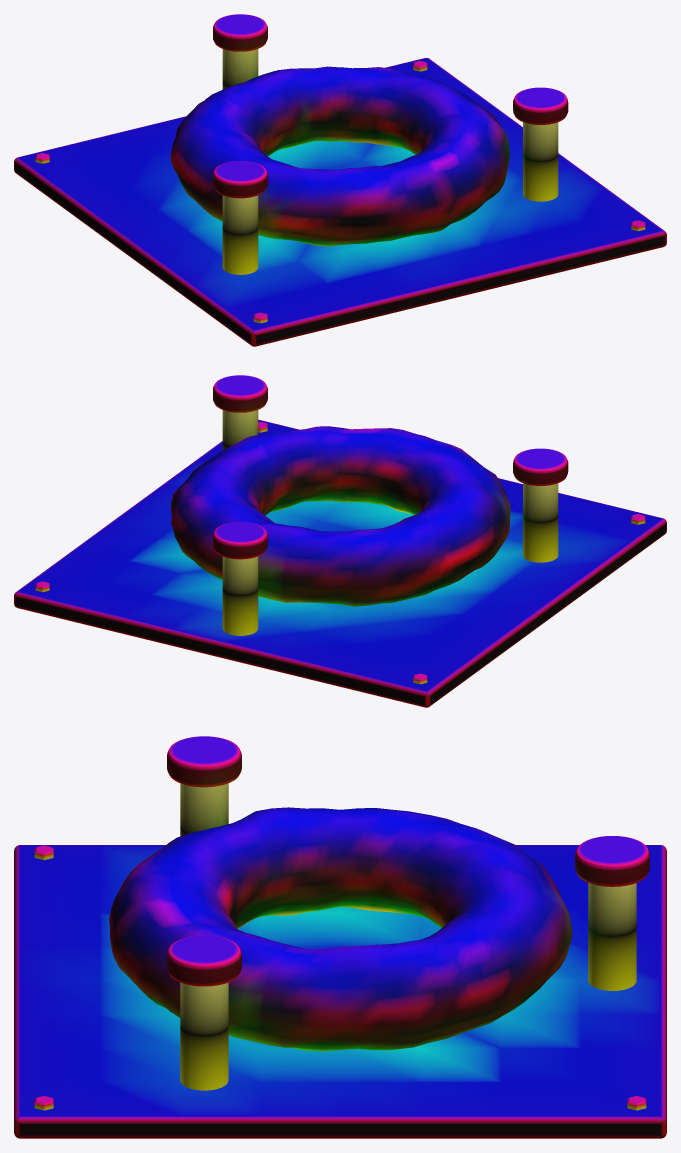
Rendered from prop_heavy_cradle.fbx.
3 views of the same model, one above another, from view 1: azimuth 30°, elevation 25°; view 2: azimuth 150°, elevation 25°; view 3: azimuth 270°, elevation 25° (orthographic). The views are drawn at different scales.
Parts seen in each view (by area): view 1: prop_heavy_cradle; view 2: prop_heavy_cradle; view 3: prop_heavy_cradle.
Part boxes in pixels (box(x1,y1,x2,y2)): prop_heavy_cradle: box(14, 14, 666, 346); prop_heavy_cradle: box(14, 375, 666, 707); prop_heavy_cradle: box(14, 736, 666, 1138).
Size of the model in its own units: 0.54 by 0.14 by 0.54.
